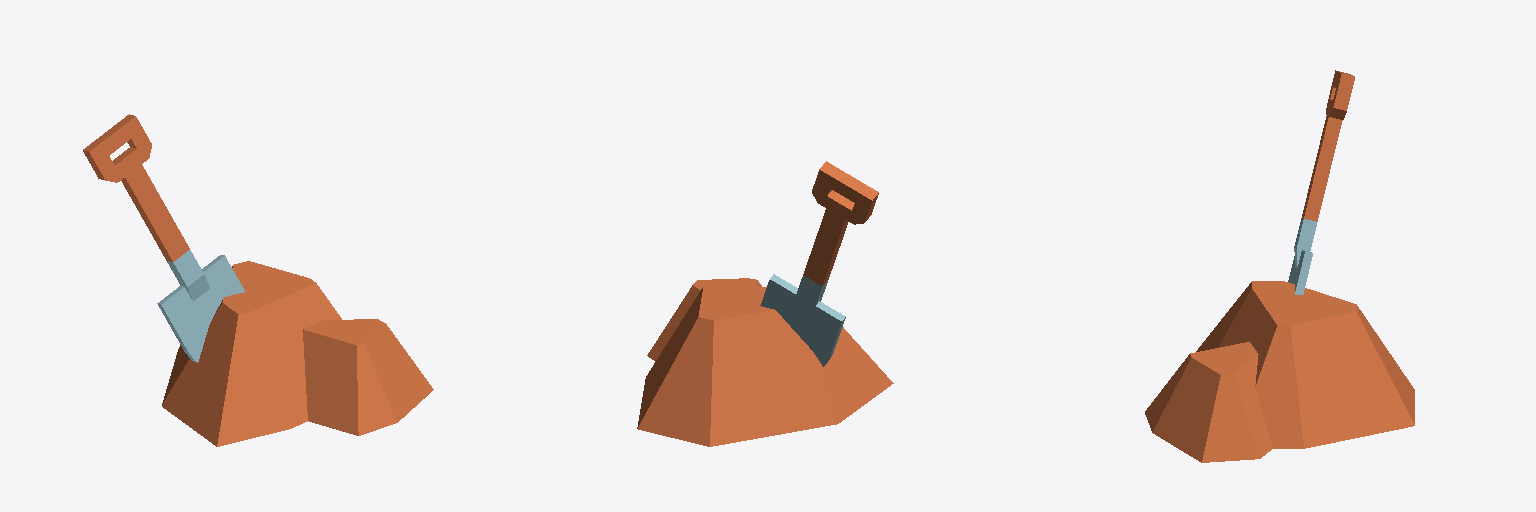
Rendered from shovelDirt.obj.
3 views of the same model, side by side, from view 1: azimuth 30°, elevation 25°; view 2: azimuth 150°, elevation 25°; view 3: azimuth 270°, elevation 25° (orthographic).
Visible parts, largest first — view 1: shovelDirt; view 2: shovelDirt; view 3: shovelDirt.
Boxes of the visible parts, <box> form: shovelDirt: <box>83,114,433,446</box>; shovelDirt: <box>637,161,893,446</box>; shovelDirt: <box>1145,70,1414,462</box>.
Size of the model in its own units: 0.5994 by 0.5738 by 0.5057.